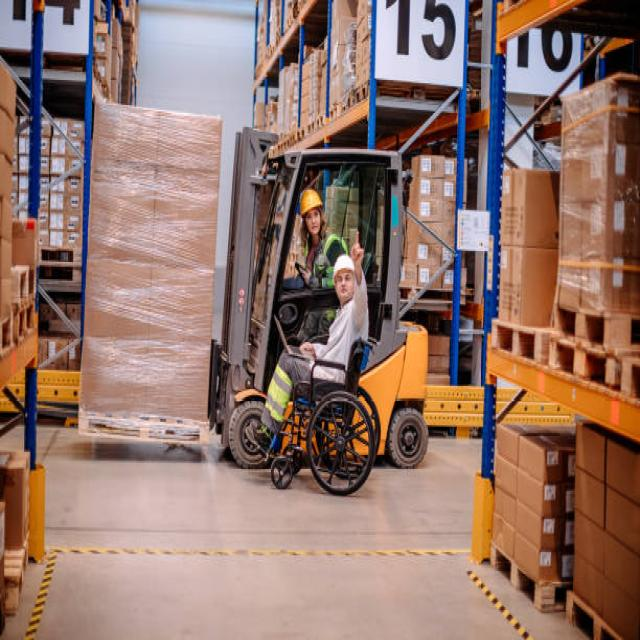Wooden-Pallets: (76, 409, 212, 452), (484, 540, 552, 619), (545, 325, 625, 389), (547, 289, 619, 352), (488, 315, 548, 368)
